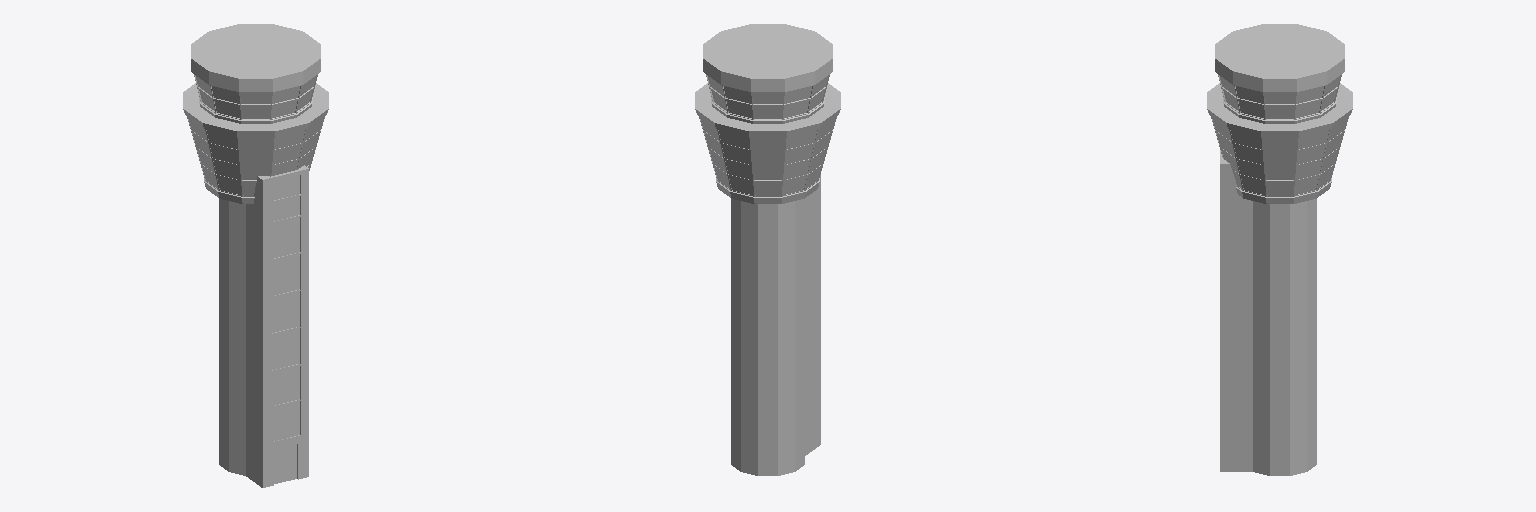
File: control_tower.obj
3 views of the same model, side by side, from view 1: azimuth 30°, elevation 25°; view 2: azimuth 150°, elevation 25°; view 3: azimuth 270°, elevation 25° (orthographic).
Parts seen in each view (by area): view 1: control_tower_01; view 2: control_tower_01; view 3: control_tower_01.
Boxes of the visible parts, <box> form: control_tower_01: <box>183,24,328,487</box>; control_tower_01: <box>695,24,840,475</box>; control_tower_01: <box>1207,24,1352,475</box>.
Size of the model in its own units: 2.82 by 8.73 by 2.82.